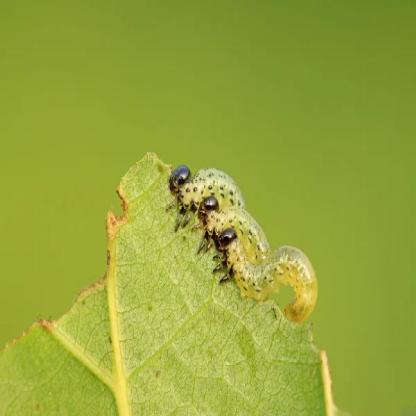sawfly: (210, 218, 317, 332), (196, 196, 271, 273), (166, 157, 244, 227)
